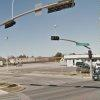Traffic light: (45, 28, 69, 50)
